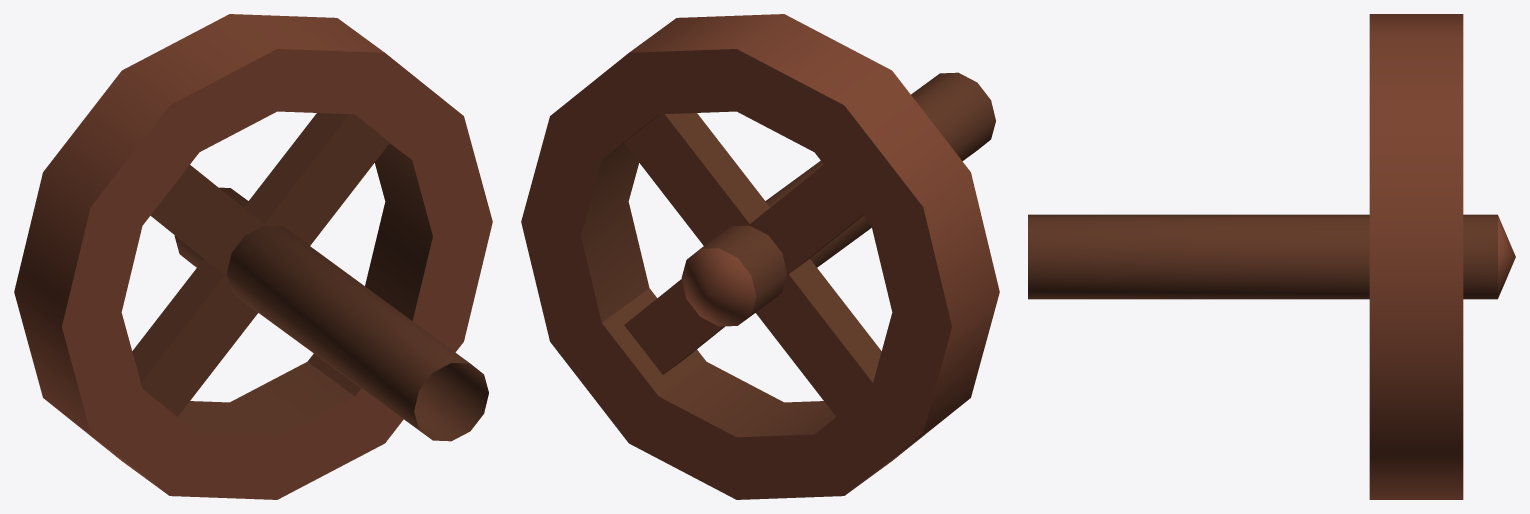
File: manivela_cano.fbx
3 renders of one model, left to right at view 1: azimuth 30°, elevation 25°; view 2: azimuth 150°, elevation 25°; view 3: azimuth 270°, elevation 25°, orthographic. The views are drawn at different scales.
Visible parts, largest first — view 1: manivela_cano; view 2: manivela_cano; view 3: manivela_cano.
Boxes of the visible parts, x1,y1,x2,y2 form: manivela_cano: (14,14,492,499); manivela_cano: (521,14,999,499); manivela_cano: (1028,14,1515,499).
Size of the model in its own units: 121 by 121 by 121.
